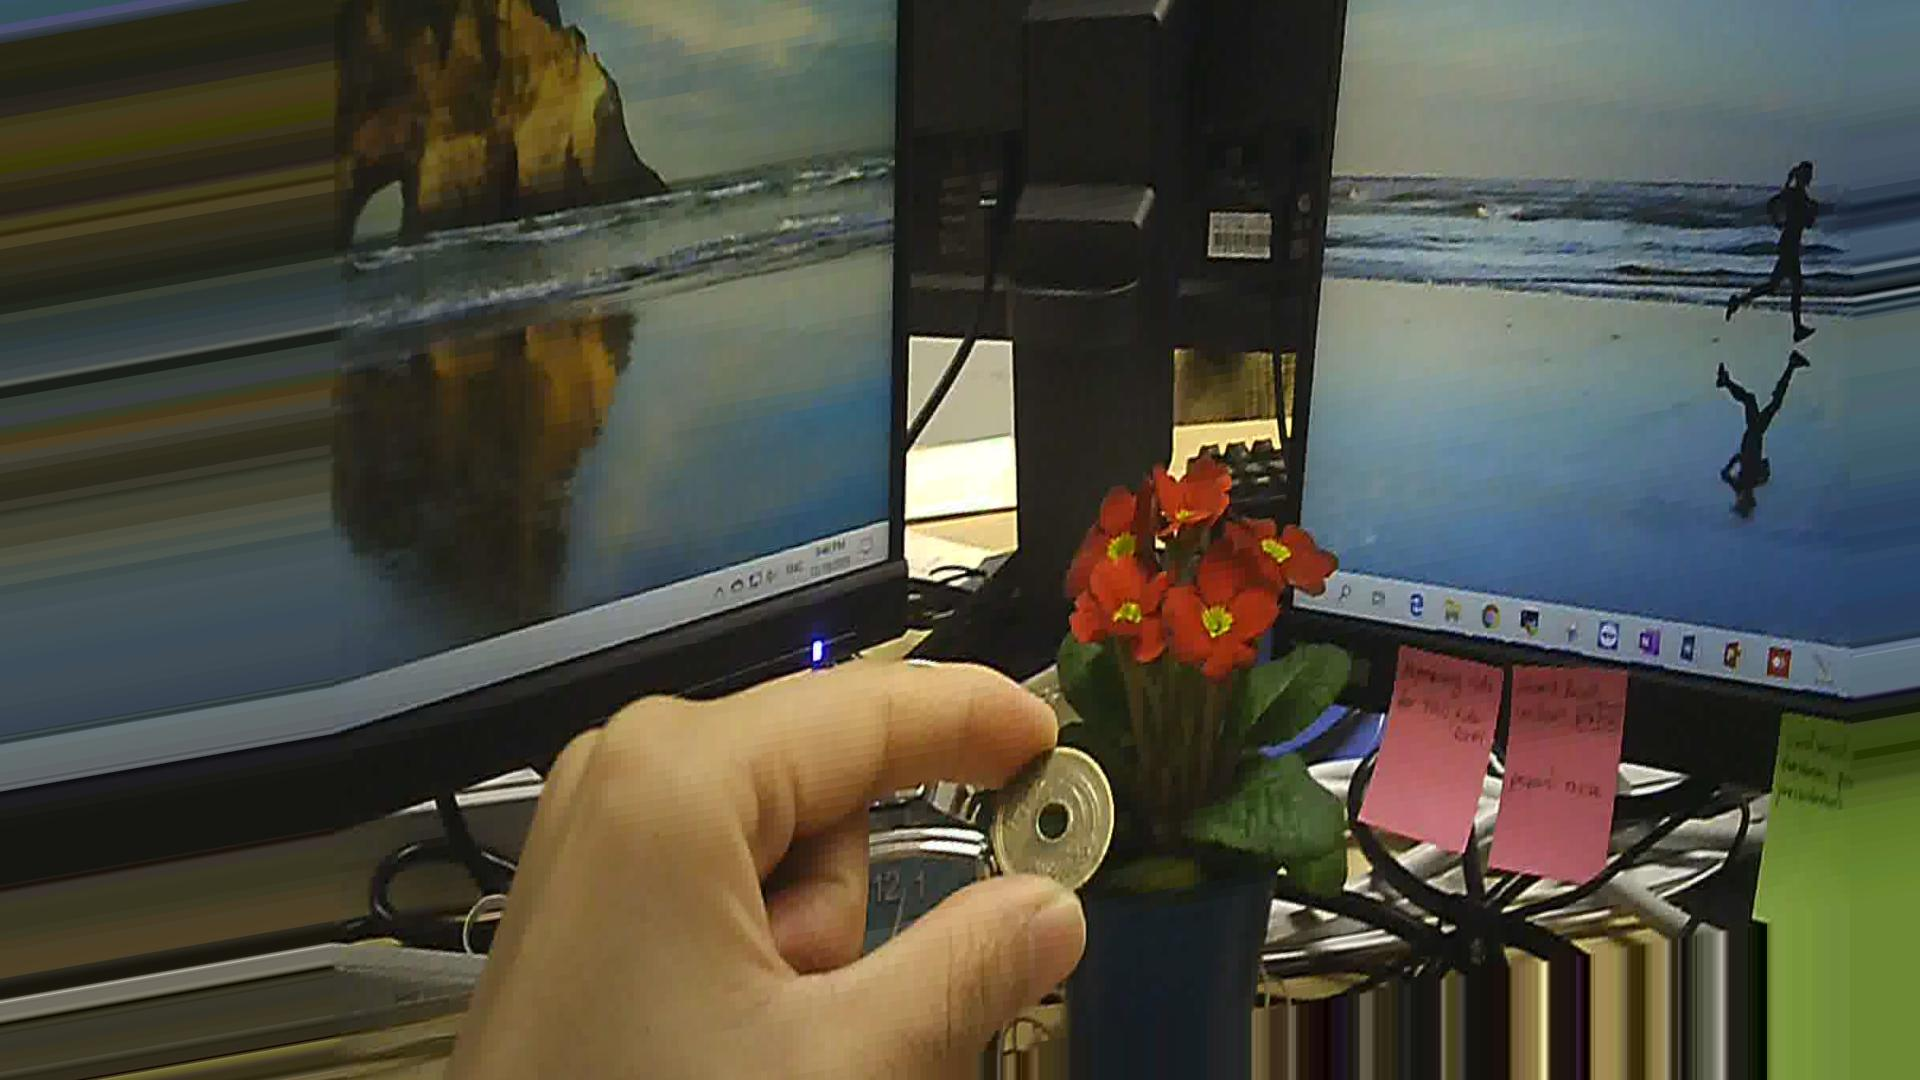5 Yen: (985, 736, 1120, 899)
